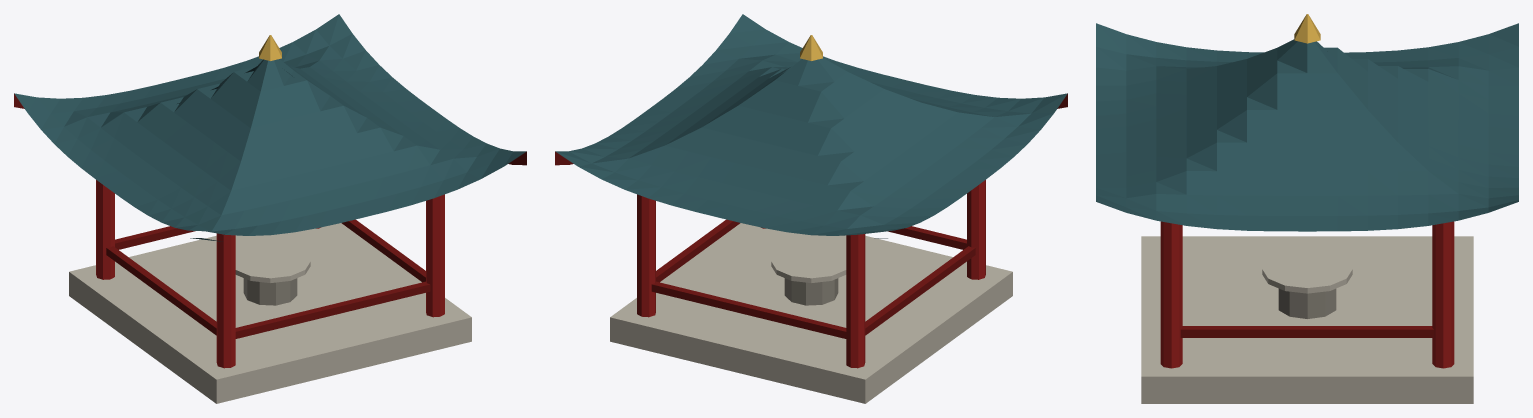
The model's file is pavilion.glb.
3 views of the same model, side by side, from view 1: azimuth 30°, elevation 25°; view 2: azimuth 150°, elevation 25°; view 3: azimuth 270°, elevation 25° (orthographic). The views are drawn at different scales.
Parts seen in each view (by area): view 1: pavilion; view 2: pavilion; view 3: pavilion.
Part boxes in pixels (left/top/right/bottom): pavilion: left=14, top=14, right=526, bottom=403; pavilion: left=555, top=14, right=1067, bottom=403; pavilion: left=1096, top=14, right=1518, bottom=403.
Bounding box in the file's own units: 8.4 × 7 × 8.4.
